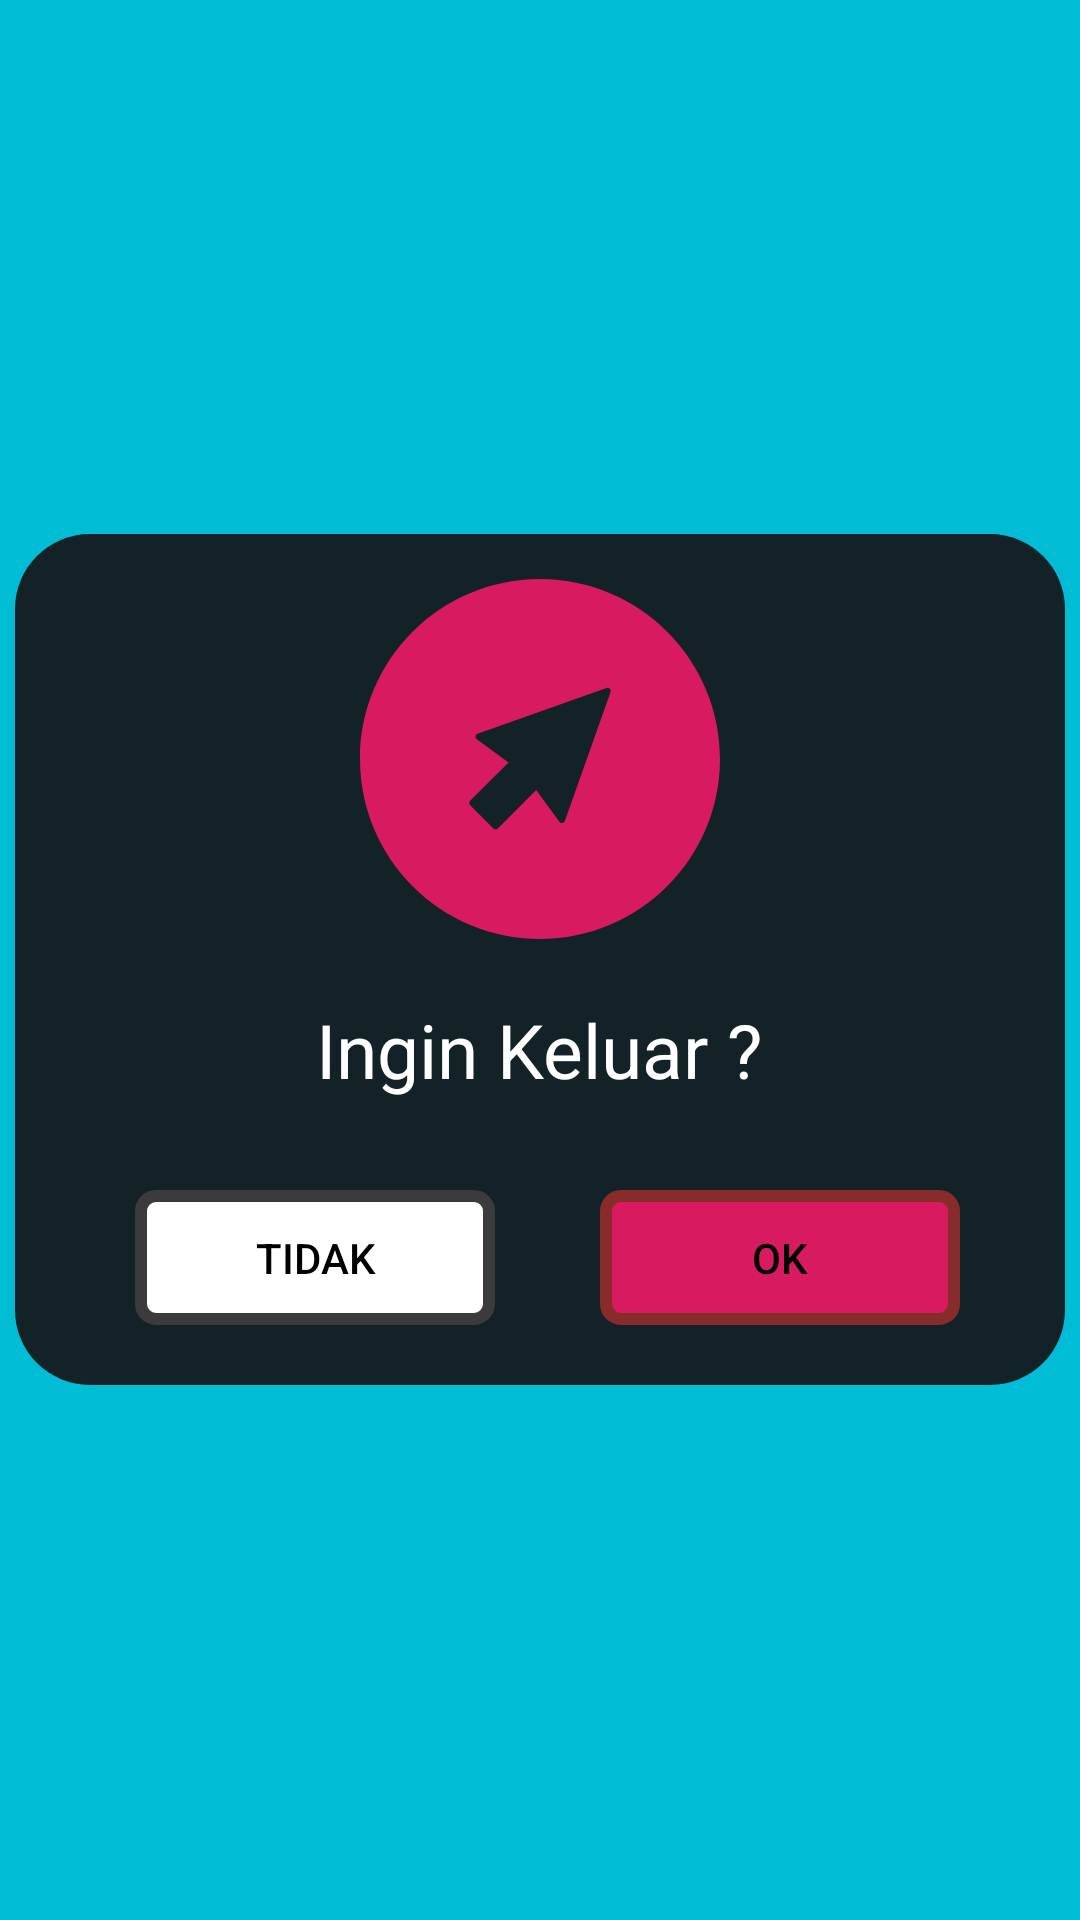

Icon bounding boxes for this 1080px x 1920px phone screenshot, format (x1, y1, x2, y2):
cursor: (360, 579, 720, 939)
